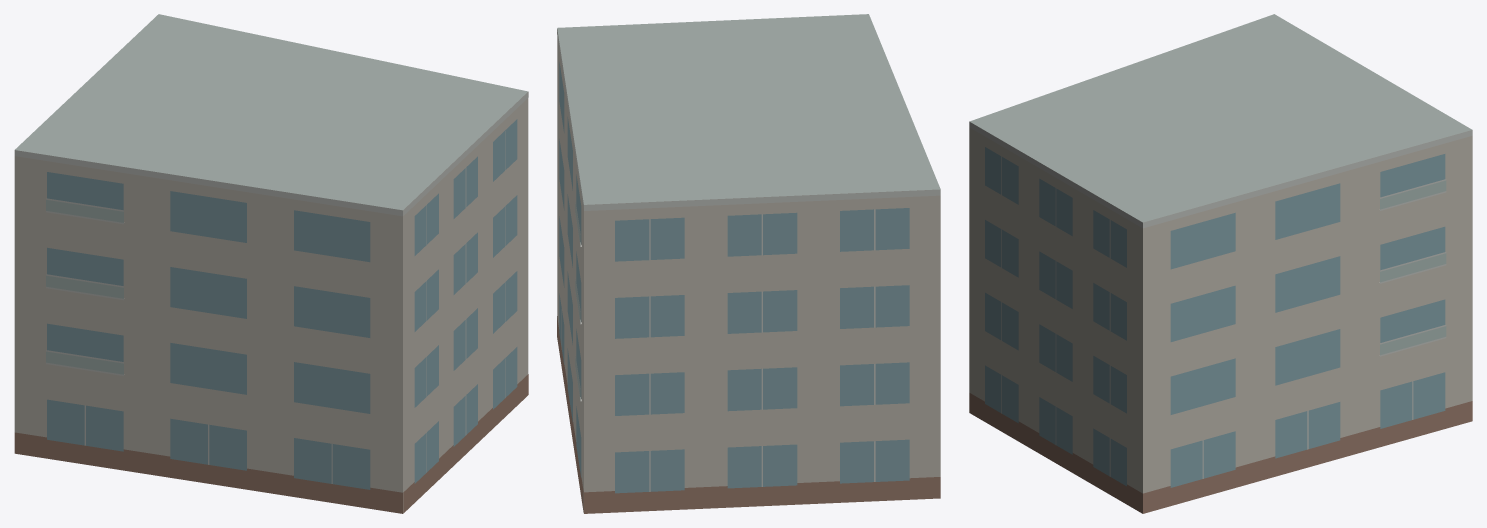
Rendered from survey-upis-32644074.glb.
The picture shows the model from 3 angles, left to right: view 1: azimuth 30°, elevation 25°; view 2: azimuth 150°, elevation 25°; view 3: azimuth 270°, elevation 25°; orthographic projection. The views are drawn at different scales.
Parts seen in each view (by area): view 1: survey-upis-32644074.tmp; view 2: survey-upis-32644074.tmp; view 3: survey-upis-32644074.tmp.
Part boxes in pixels (left/top/right/bottom): survey-upis-32644074.tmp: left=14, top=14, right=528, bottom=513; survey-upis-32644074.tmp: left=557, top=14, right=940, bottom=513; survey-upis-32644074.tmp: left=969, top=14, right=1472, bottom=513.
Size of the model in its own units: 18.74 by 12.2 by 19.11.
